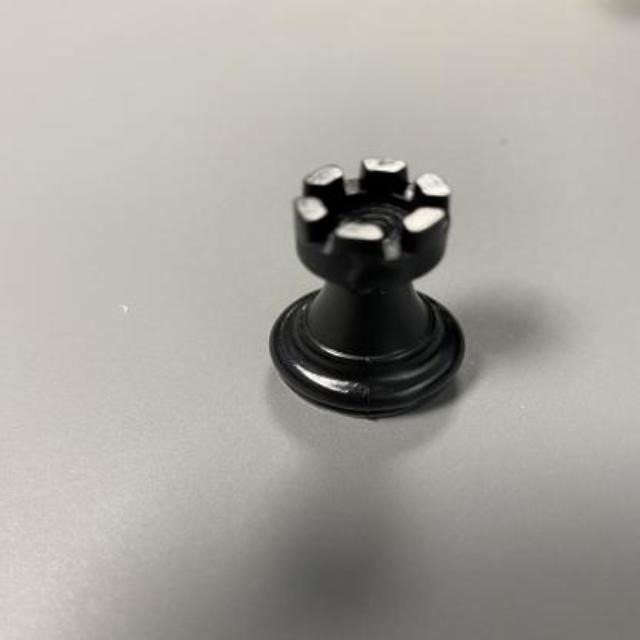black-rook: (268, 158, 466, 418)
